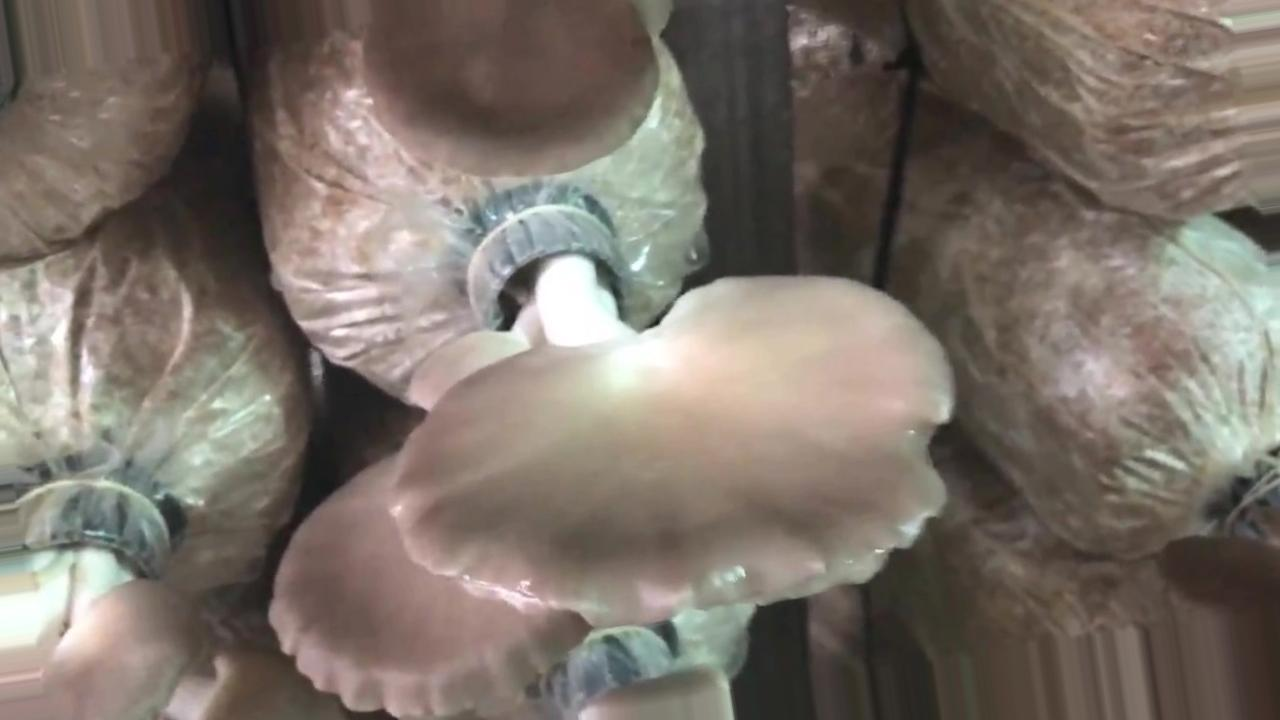nam: (384, 191, 961, 635), (264, 448, 583, 720), (1, 464, 309, 717), (366, 7, 664, 184)
